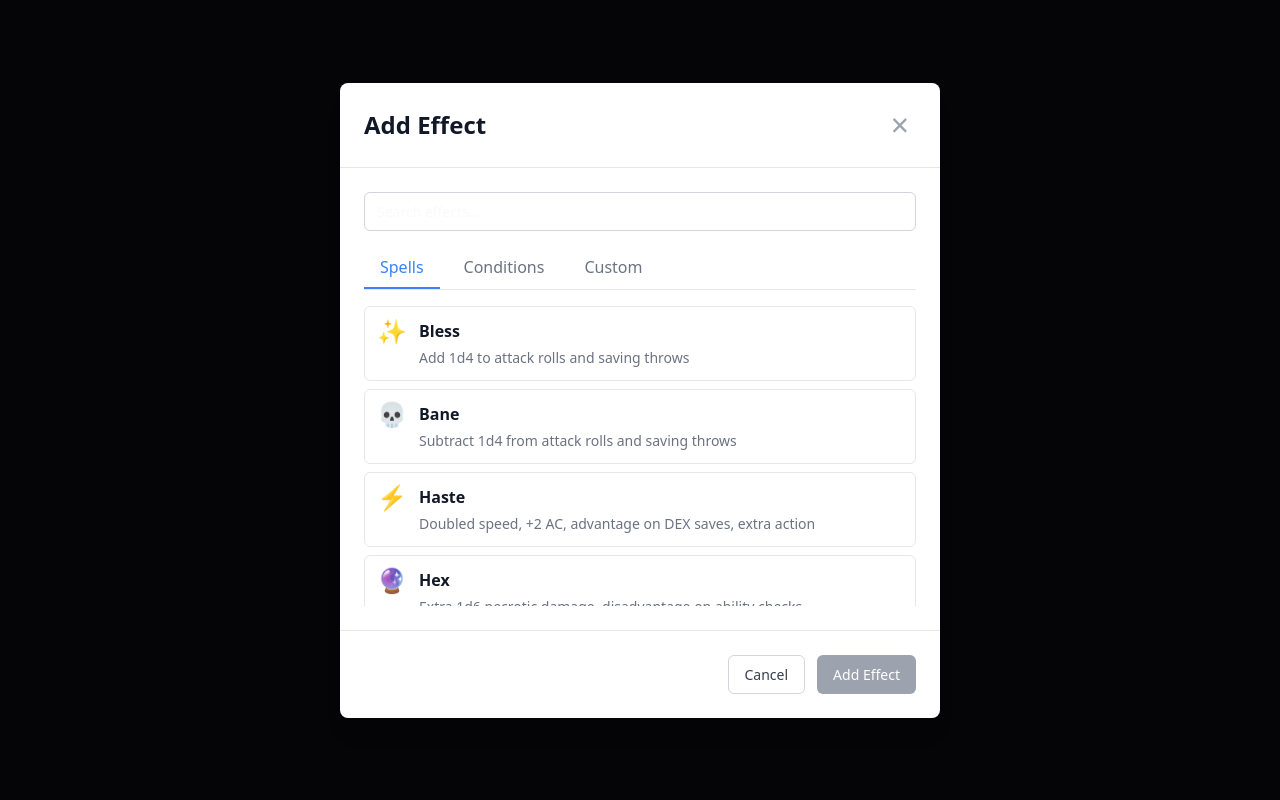
Test: AddEffectModal › Display › should display condition templates in Conditions tab
The image size is (1280, 800).
Note: Click Conditions tab
Click the button "Conditions" at (504, 268), box [448,246,560,288]
(page scrolled)
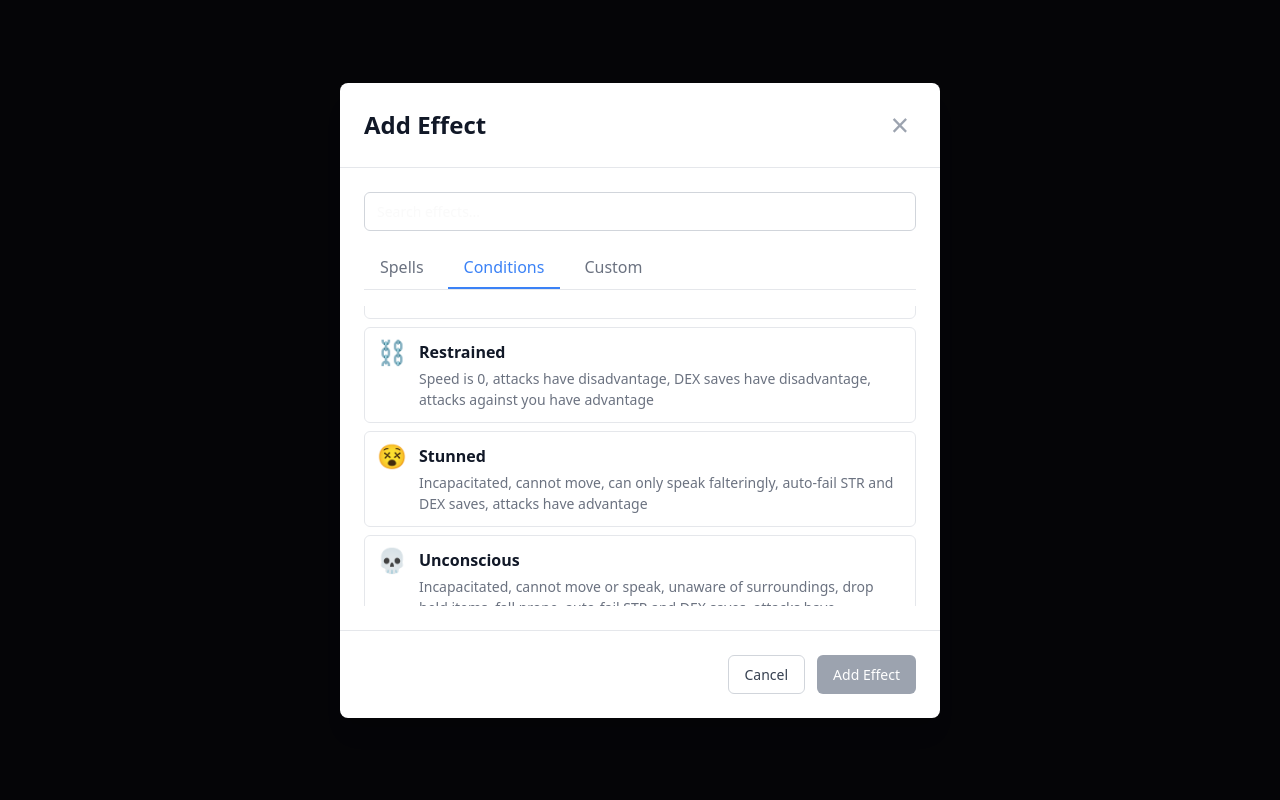
Result: the text "Stunned" is shown at [419,444,486,466]
